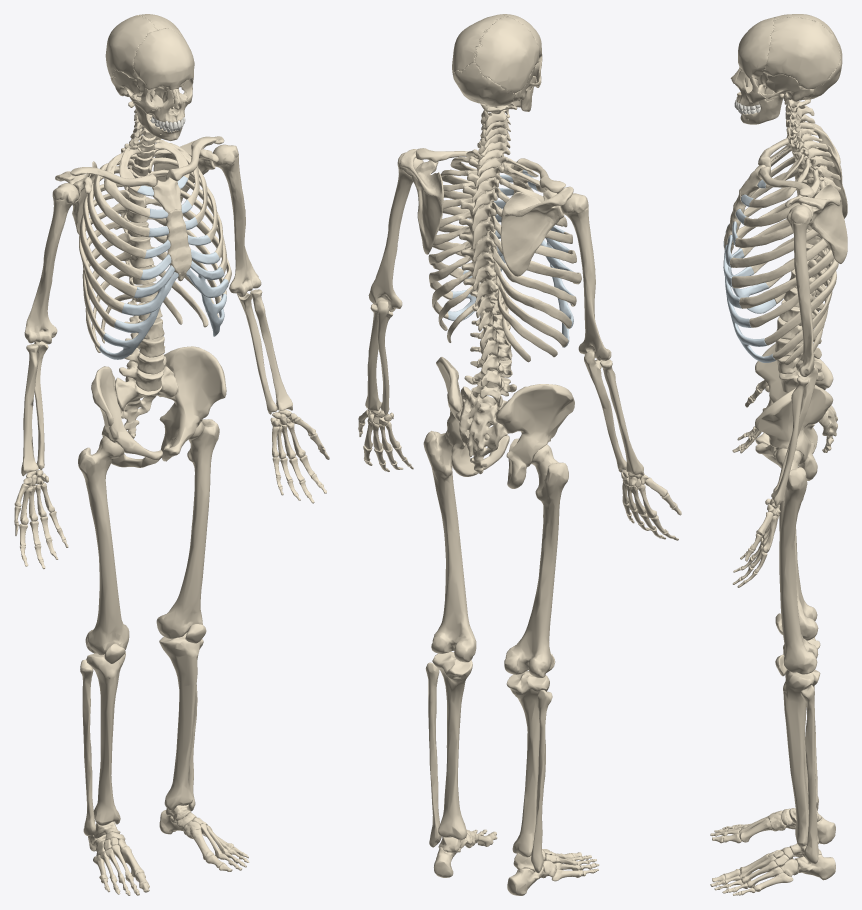
File: skeleton.glb
3 views of the same model, side by side, from view 1: azimuth 30°, elevation 25°; view 2: azimuth 150°, elevation 25°; view 3: azimuth 270°, elevation 25° (orthographic). The views are drawn at different scales.
Parts seen in each view (by area): view 1: ribs|-1|bone, vertebral|0|bone, femur|-1|bone, femur|1|bone, coxa|1|bone, ribs|1|bone, tibia|1|bone, skull|-1|bone, ribs|-1|cart, skull|0|bone, tibia|-1|bone, humerus|-1|bone (+23 smaller); view 2: vertebral|0|bone, ribs|-1|bone, femur|-1|bone, femur|1|bone, coxa|-1|bone, ribs|1|bone, skull|-1|bone, scapula|-1|bone, tibia|1|bone, tibia|-1|bone, humerus|-1|bone, sacrum|0|bone (+18 smaller); view 3: ribs|1|bone, skull|1|bone, vertebral|0|bone, femur|1|bone, coxa|1|bone, tibia|1|bone, humerus|1|bone, scapula|1|bone, skull|0|bone, fibula|1|bone, ribs|-1|bone, ribs|1|cart (+21 smaller).
Boxes of the visible parts, bbox=[...] form: ribs|-1|bone: bbox=[79, 147, 149, 352]; vertebral|0|bone: bbox=[114, 97, 166, 391]; femur|-1|bone: bbox=[78, 436, 129, 655]; femur|1|bone: bbox=[156, 419, 219, 638]; coxa|1|bone: bbox=[159, 346, 226, 461]; ribs|1|bone: bbox=[145, 139, 231, 327]; tibia|1|bone: bbox=[159, 632, 201, 810]; skull|-1|bone: bbox=[105, 15, 179, 123]; ribs|-1|cart: bbox=[99, 185, 178, 359]; skull|0|bone: bbox=[133, 28, 194, 108]; tibia|-1|bone: bbox=[86, 652, 125, 825]; humerus|-1|bone: bbox=[24, 183, 78, 344]; vertebral|0|bone: bbox=[459, 102, 517, 403]; ribs|-1|bone: bbox=[489, 158, 581, 362]; femur|-1|bone: bbox=[504, 444, 568, 677]; femur|1|bone: bbox=[423, 429, 476, 662]; coxa|-1|bone: bbox=[495, 384, 574, 488]; ribs|1|bone: bbox=[428, 150, 495, 342]; skull|-1|bone: bbox=[474, 16, 542, 102]; scapula|-1|bone: bbox=[500, 186, 573, 276]; tibia|1|bone: bbox=[432, 651, 472, 839]; tibia|-1|bone: bbox=[506, 671, 549, 857]; humerus|-1|bone: bbox=[561, 193, 611, 360]; sacrum|0|bone: bbox=[459, 386, 507, 474]; ribs|1|bone: bbox=[730, 152, 838, 365]; skull|1|bone: bbox=[731, 17, 840, 106]; vertebral|0|bone: bbox=[775, 99, 840, 392]; femur|1|bone: bbox=[775, 448, 818, 674]; coxa|1|bone: bbox=[755, 385, 833, 480]; tibia|1|bone: bbox=[783, 669, 820, 846]; humerus|1|bone: bbox=[786, 205, 814, 376]; scapula|1|bone: bbox=[785, 183, 847, 263]; skull|0|bone: bbox=[738, 17, 842, 99]; fibula|1|bone: bbox=[800, 685, 818, 863]; ribs|-1|bone: bbox=[736, 143, 833, 311]; ribs|1|cart: bbox=[723, 179, 775, 362].
Size of the model in its own units: 0.648 by 1.64 by 0.2422.
